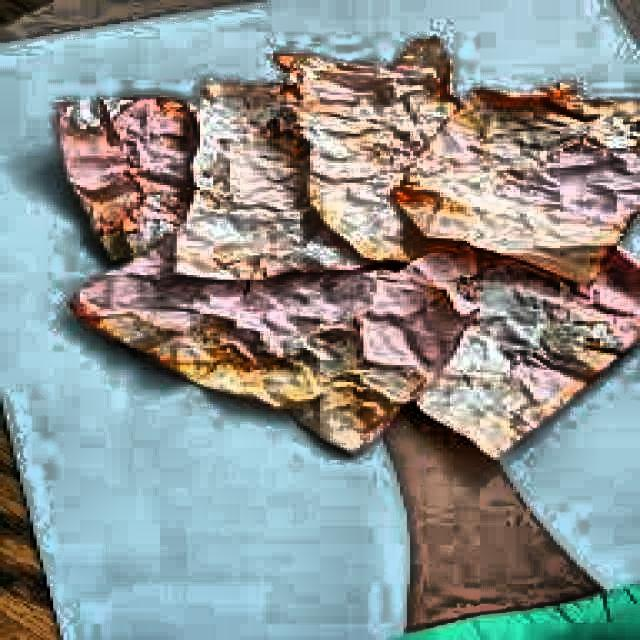Paper: (0, 0, 637, 638), (67, 227, 470, 463), (373, 236, 637, 460), (390, 86, 637, 278), (267, 37, 470, 261), (173, 75, 377, 275), (50, 95, 193, 253)
